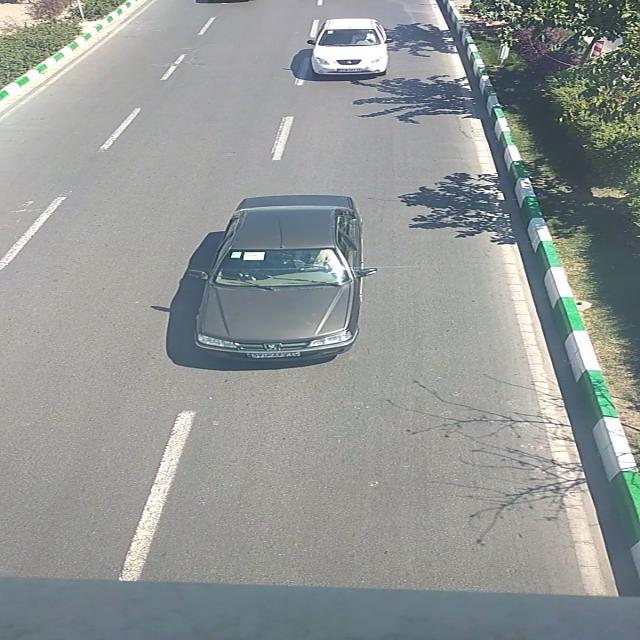car: (183, 195, 381, 362), (306, 19, 396, 75)
